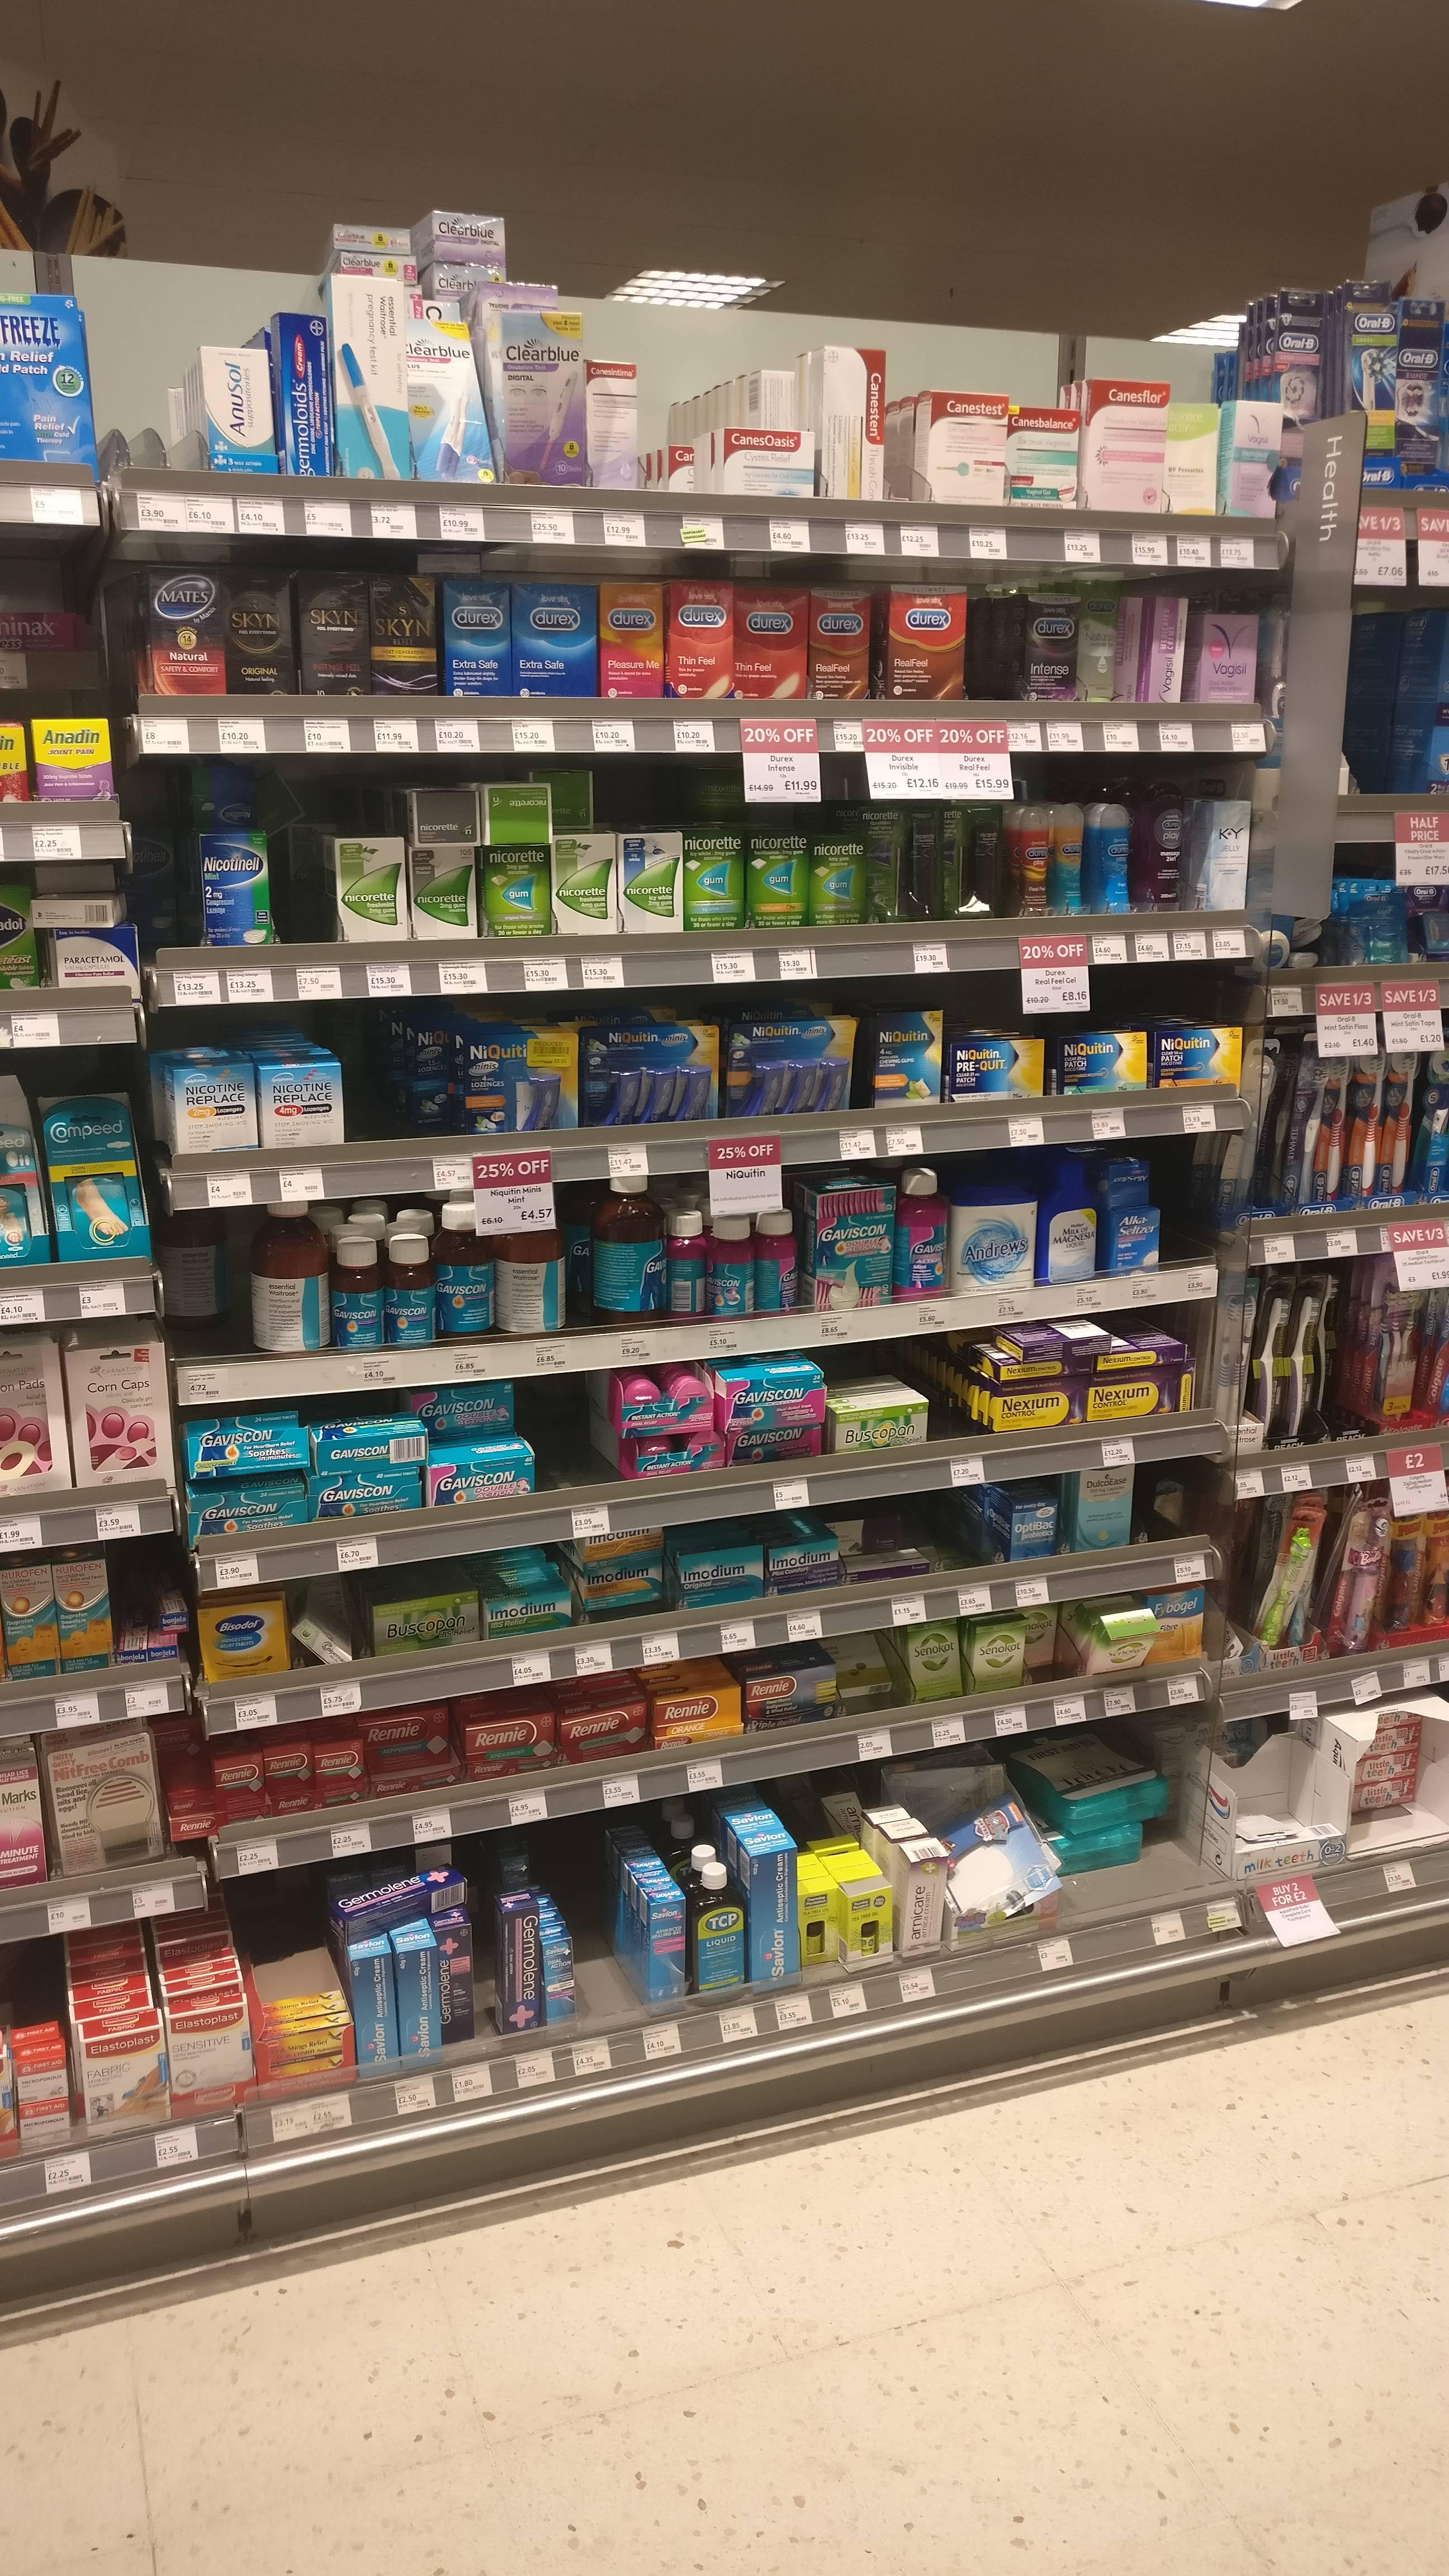empty: (525, 1387, 617, 1499), (168, 1246, 260, 1357), (104, 357, 189, 469), (573, 1867, 632, 2020), (136, 840, 200, 955), (269, 832, 333, 945), (1162, 1146, 1217, 1276), (968, 610, 1014, 702)
